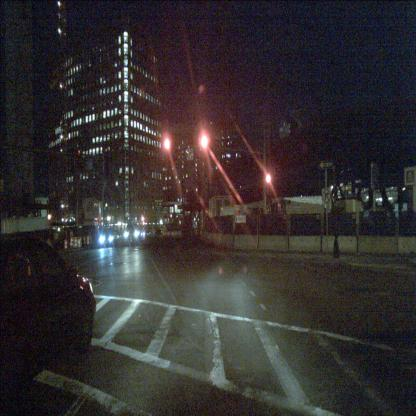cone: (64, 239, 68, 250), (78, 238, 82, 247), (71, 237, 74, 248), (87, 236, 90, 246), (75, 237, 77, 248), (90, 237, 93, 244), (84, 236, 86, 245)
